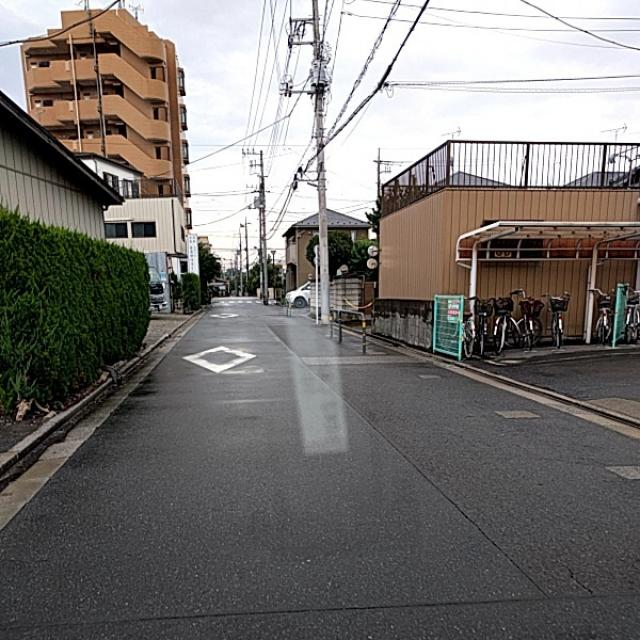pothole: (410, 469, 501, 566)
